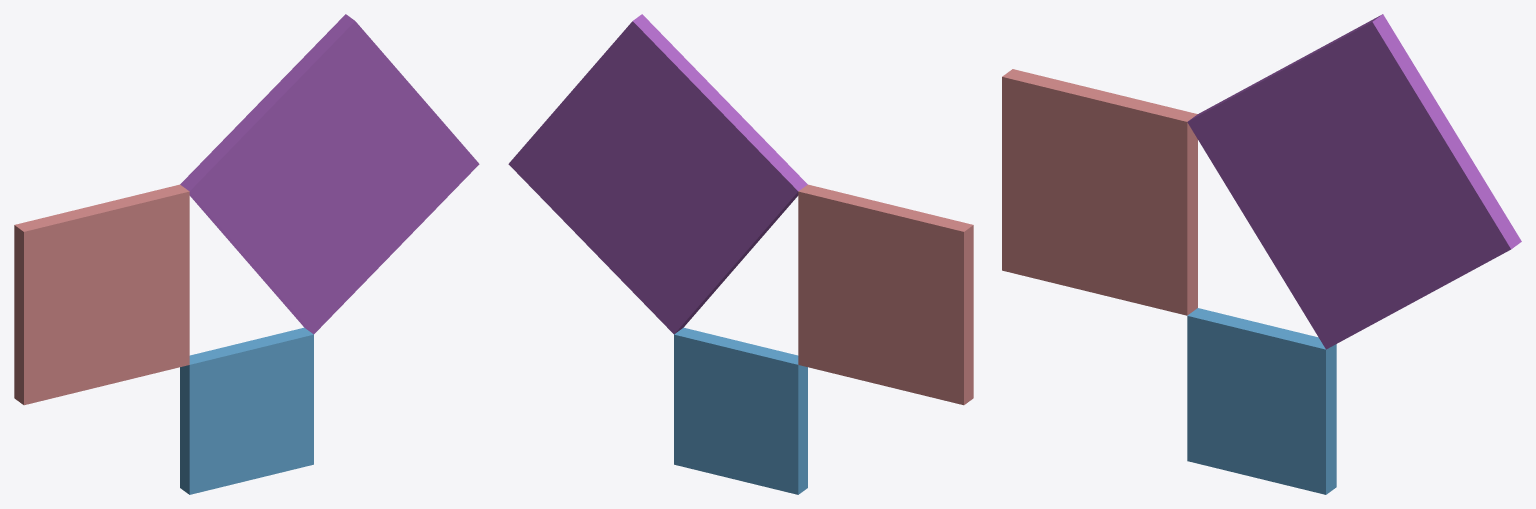
Rendered from 3d-pythagorean-proof-20260125.glb.
3 renders of one model, left to right at view 1: azimuth 30°, elevation 25°; view 2: azimuth 150°, elevation 25°; view 3: azimuth 330°, elevation 25°, orthographic. The views are drawn at different scales.
Visible parts, largest first — view 1: Square_C, Square_B, Square_A; view 2: Square_C, Square_B, Square_A; view 3: Square_C, Square_B, Square_A.
Part boxes in pixels (x1,y1,x2,y2): Square_C: (180, 14, 479, 334); Square_B: (14, 184, 189, 405); Square_A: (180, 327, 313, 494); Square_C: (508, 14, 807, 334); Square_B: (798, 184, 973, 405); Square_A: (674, 327, 807, 494); Square_C: (1187, 14, 1521, 349); Square_B: (1002, 69, 1197, 315); Square_A: (1187, 308, 1336, 494).
Bounding box in the file's own units: 5.5 × 5 × 0.2.
